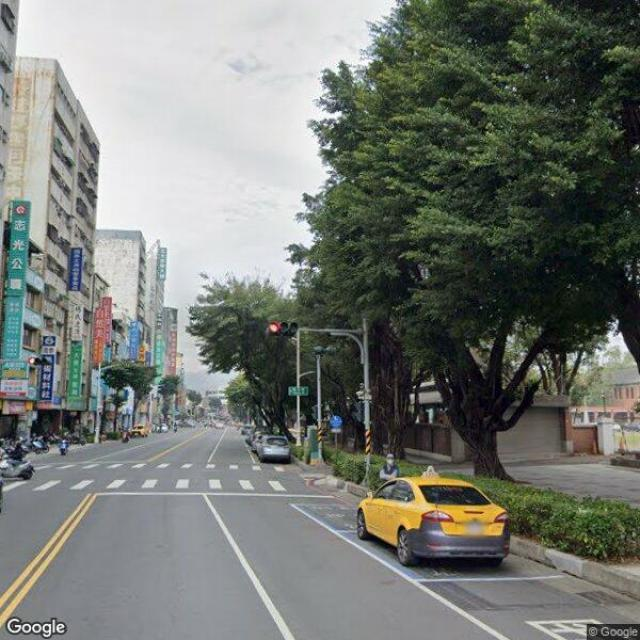Legalparking: (347, 456, 520, 572), (238, 421, 306, 477)
illegalparking: (0, 410, 101, 502)
